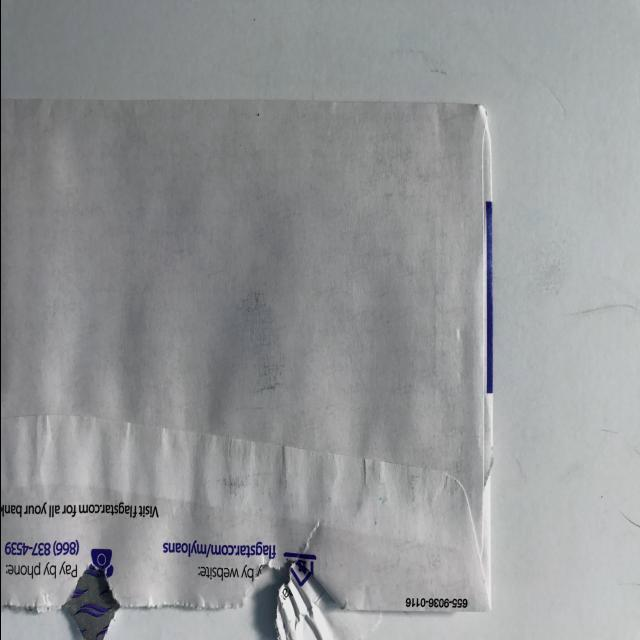paper: (0, 90, 514, 640)
